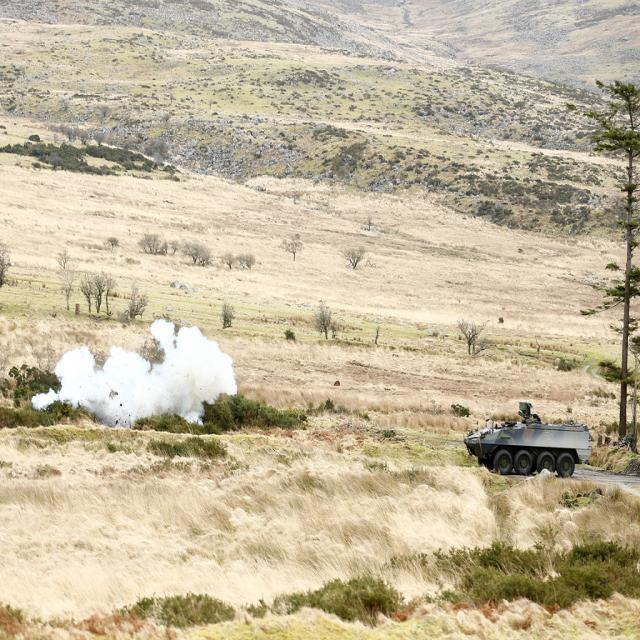tank: (464, 398, 594, 474)
